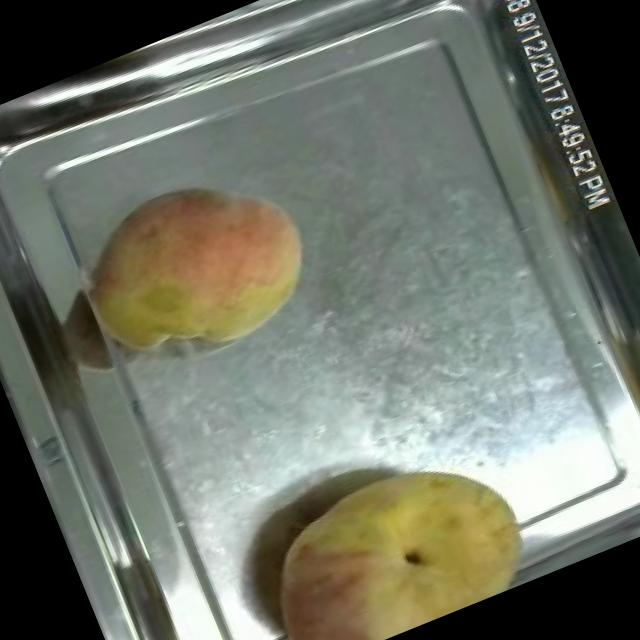Fruit: (231, 419, 552, 640), (62, 145, 340, 395)
